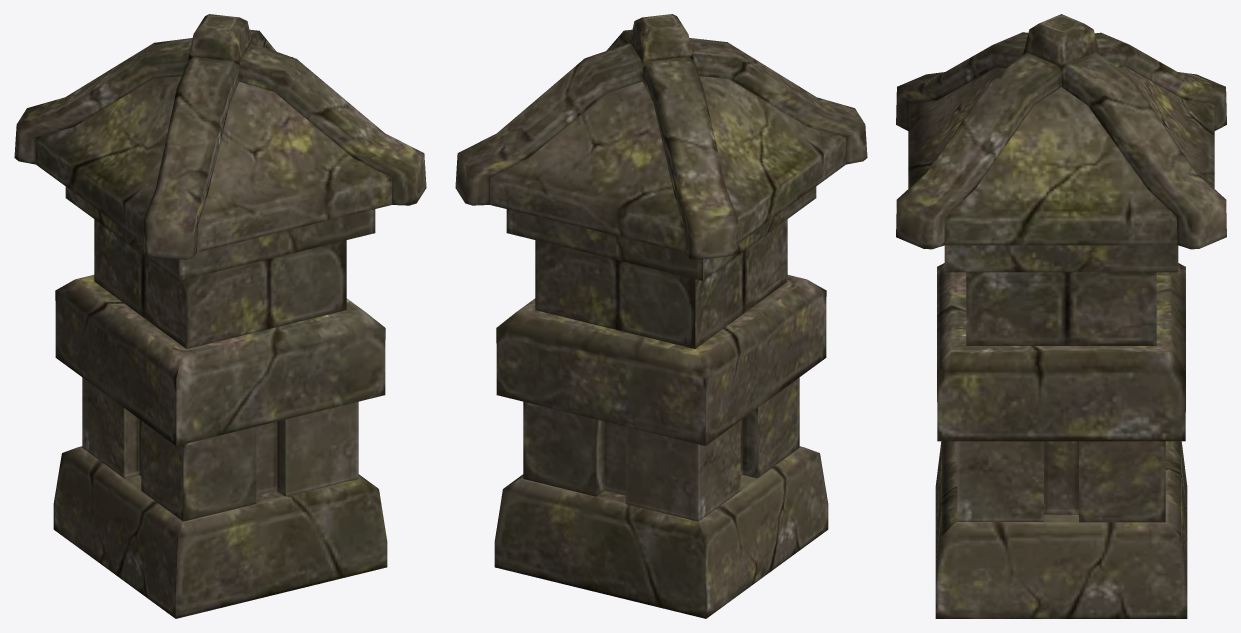
Rendered from Column_Small_01-transformed.glb.
3 views of the same model, side by side, from view 1: azimuth 30°, elevation 25°; view 2: azimuth 150°, elevation 25°; view 3: azimuth 270°, elevation 25° (orthographic). The views are drawn at different scales.
Visible parts, largest first — view 1: default; view 2: default; view 3: default.
Part boxes in pixels (left/top/right/bottom): default: left=14, top=14, right=426, bottom=618; default: left=455, top=14, right=867, bottom=618; default: left=896, top=14, right=1226, bottom=618.
Size of the model in its own units: 0.9308 by 1.68 by 0.9309.
1 material, 1 textured.
